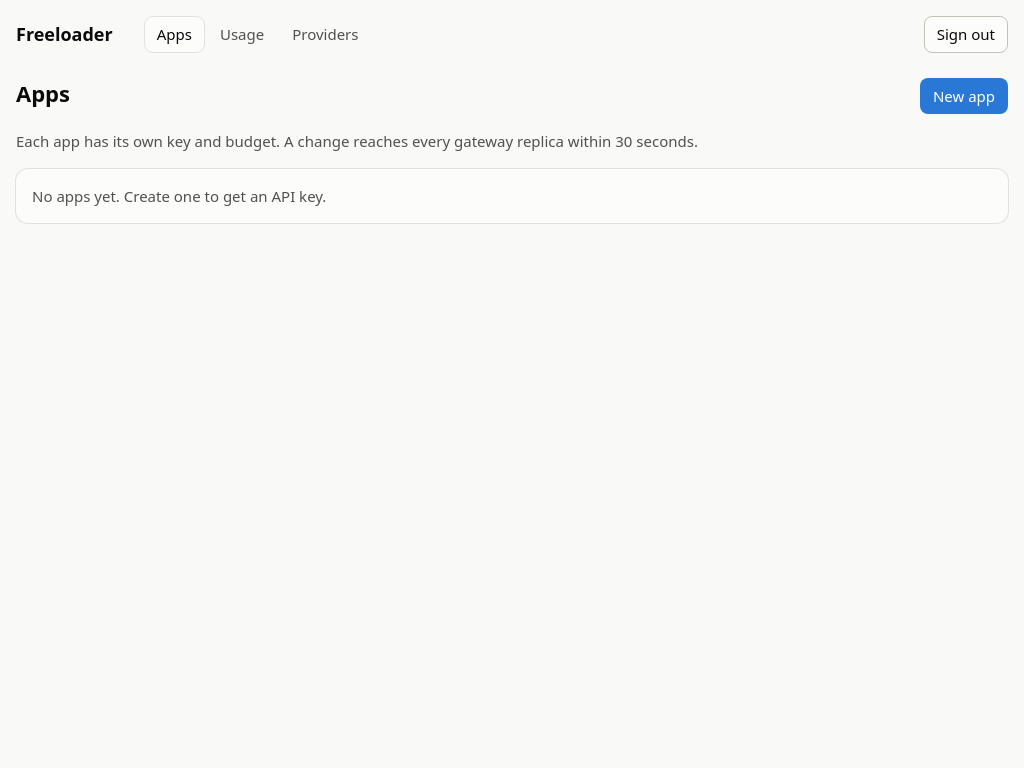
Test: Apps page › creates an app, shows the key once, and never again
Click the button "New app" at x=964, y=96, box [920,78,1008,114]
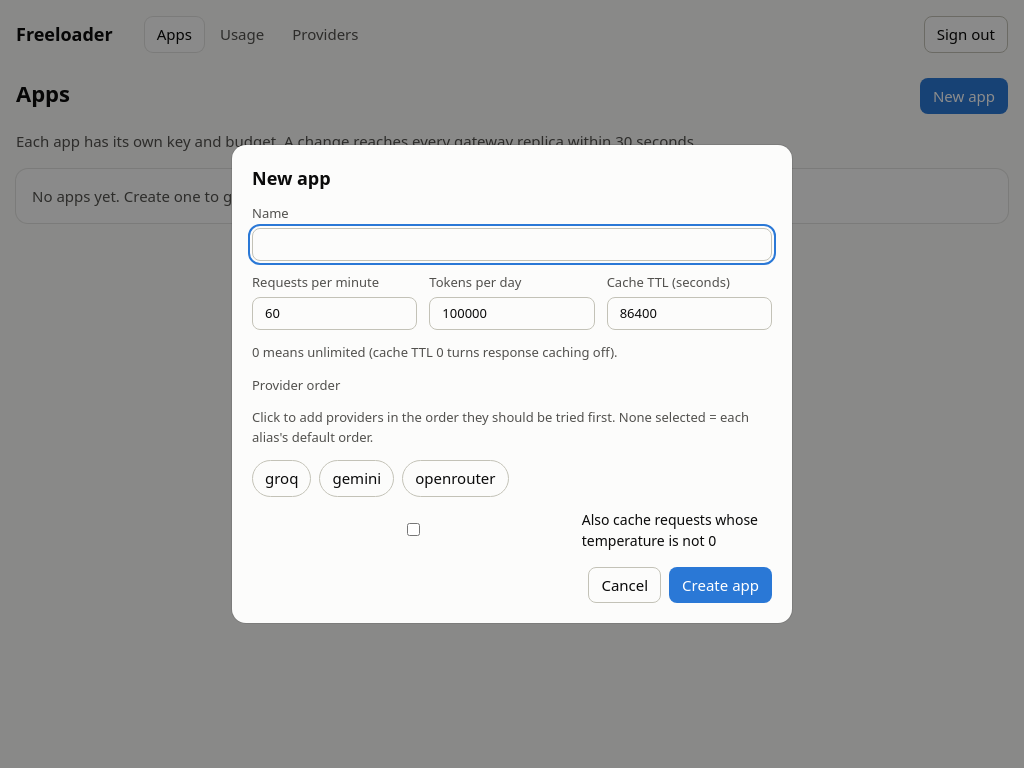
Type "demo" into the field labelled "Name" at x=512, y=244, box [252,228,772,261]
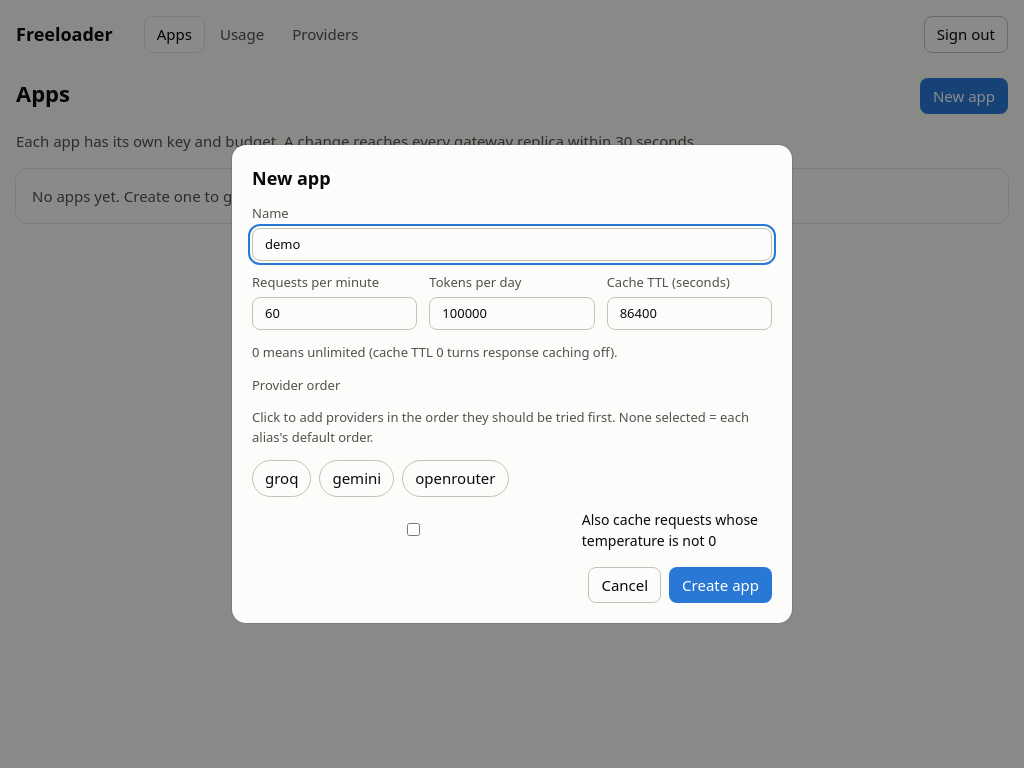
Click the button "groq" at x=282, y=478, box [252,460,311,496]
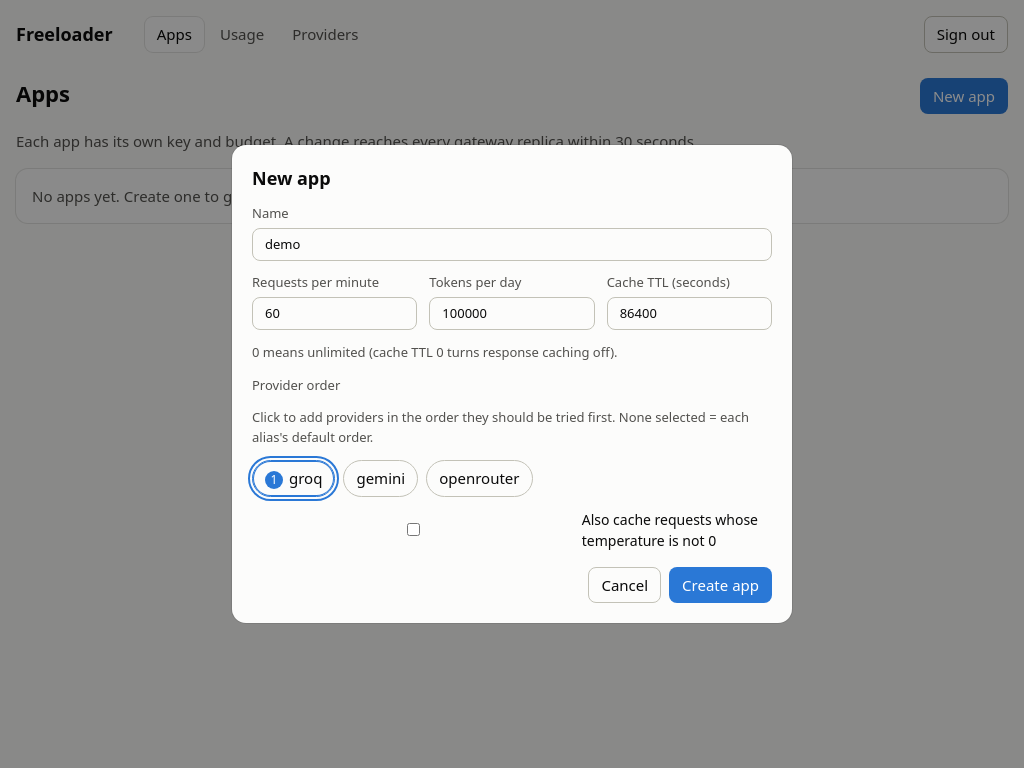
Click the button "Create app" at x=721, y=585, box [669,566,772,603]
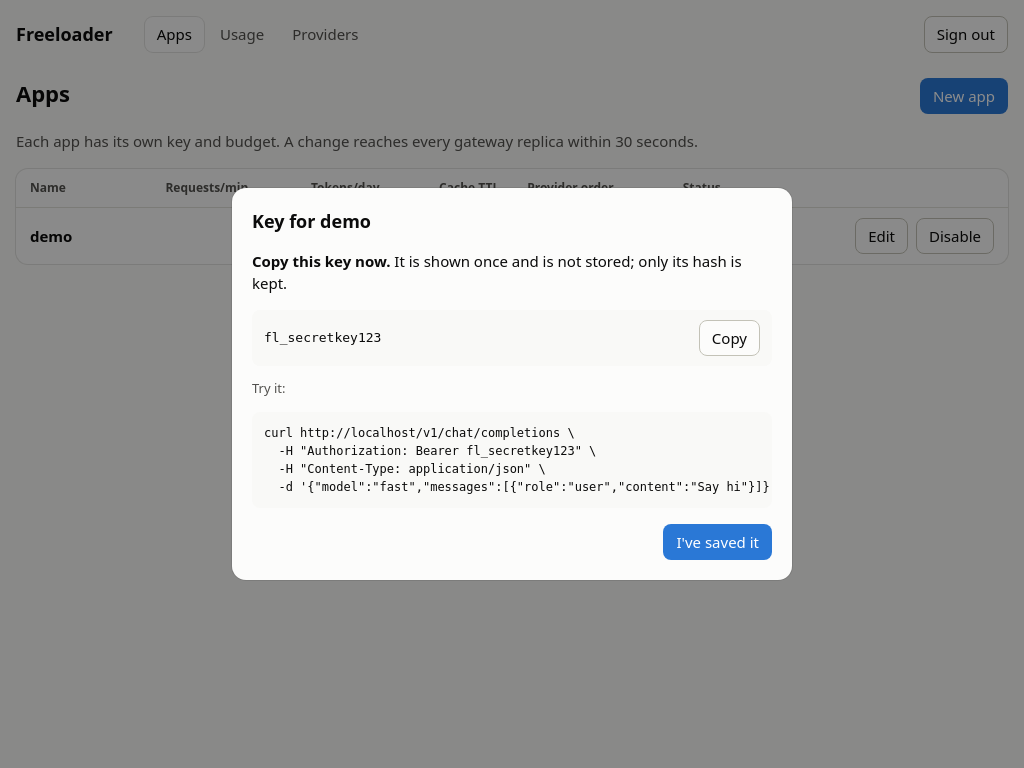
Expected: the text with test id "api-key" reads "fl_secretkey123", [264,330,381,345]
Click the button "I've saved it" at x=718, y=542, box [664,524,772,560]
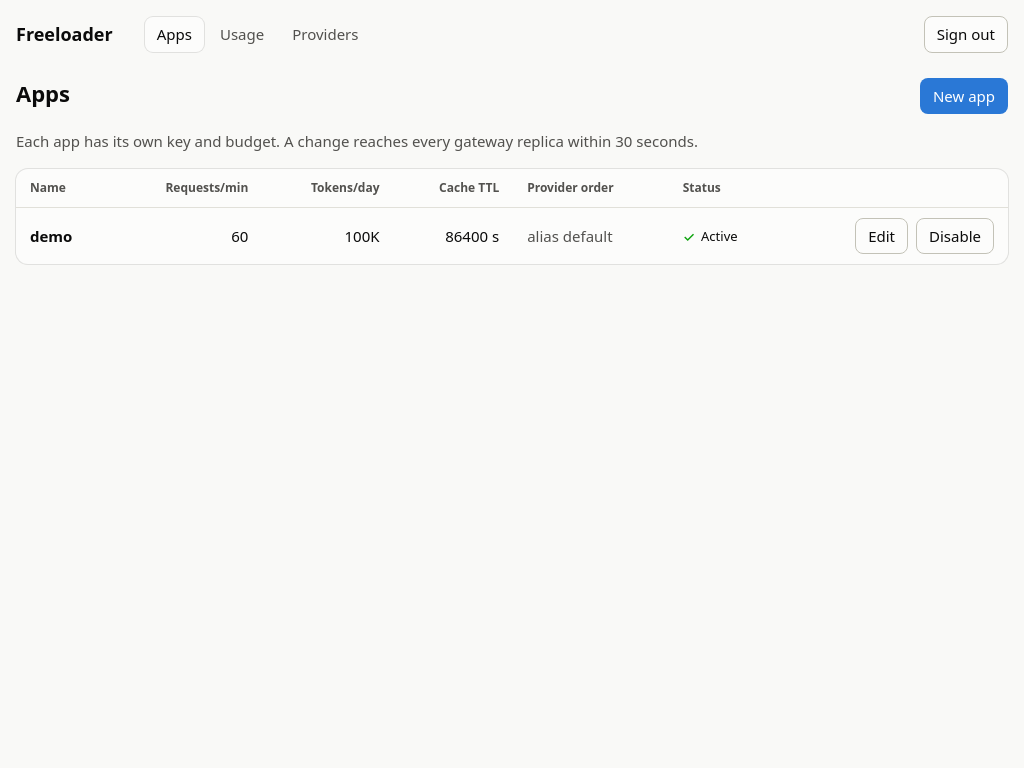
Expected: the row "demo 60 100K 86400 s alias default ✓ Active Edit Disable" is shown, [16,207,1008,264]
Expected: the text "fl_secretkey123" is gone
